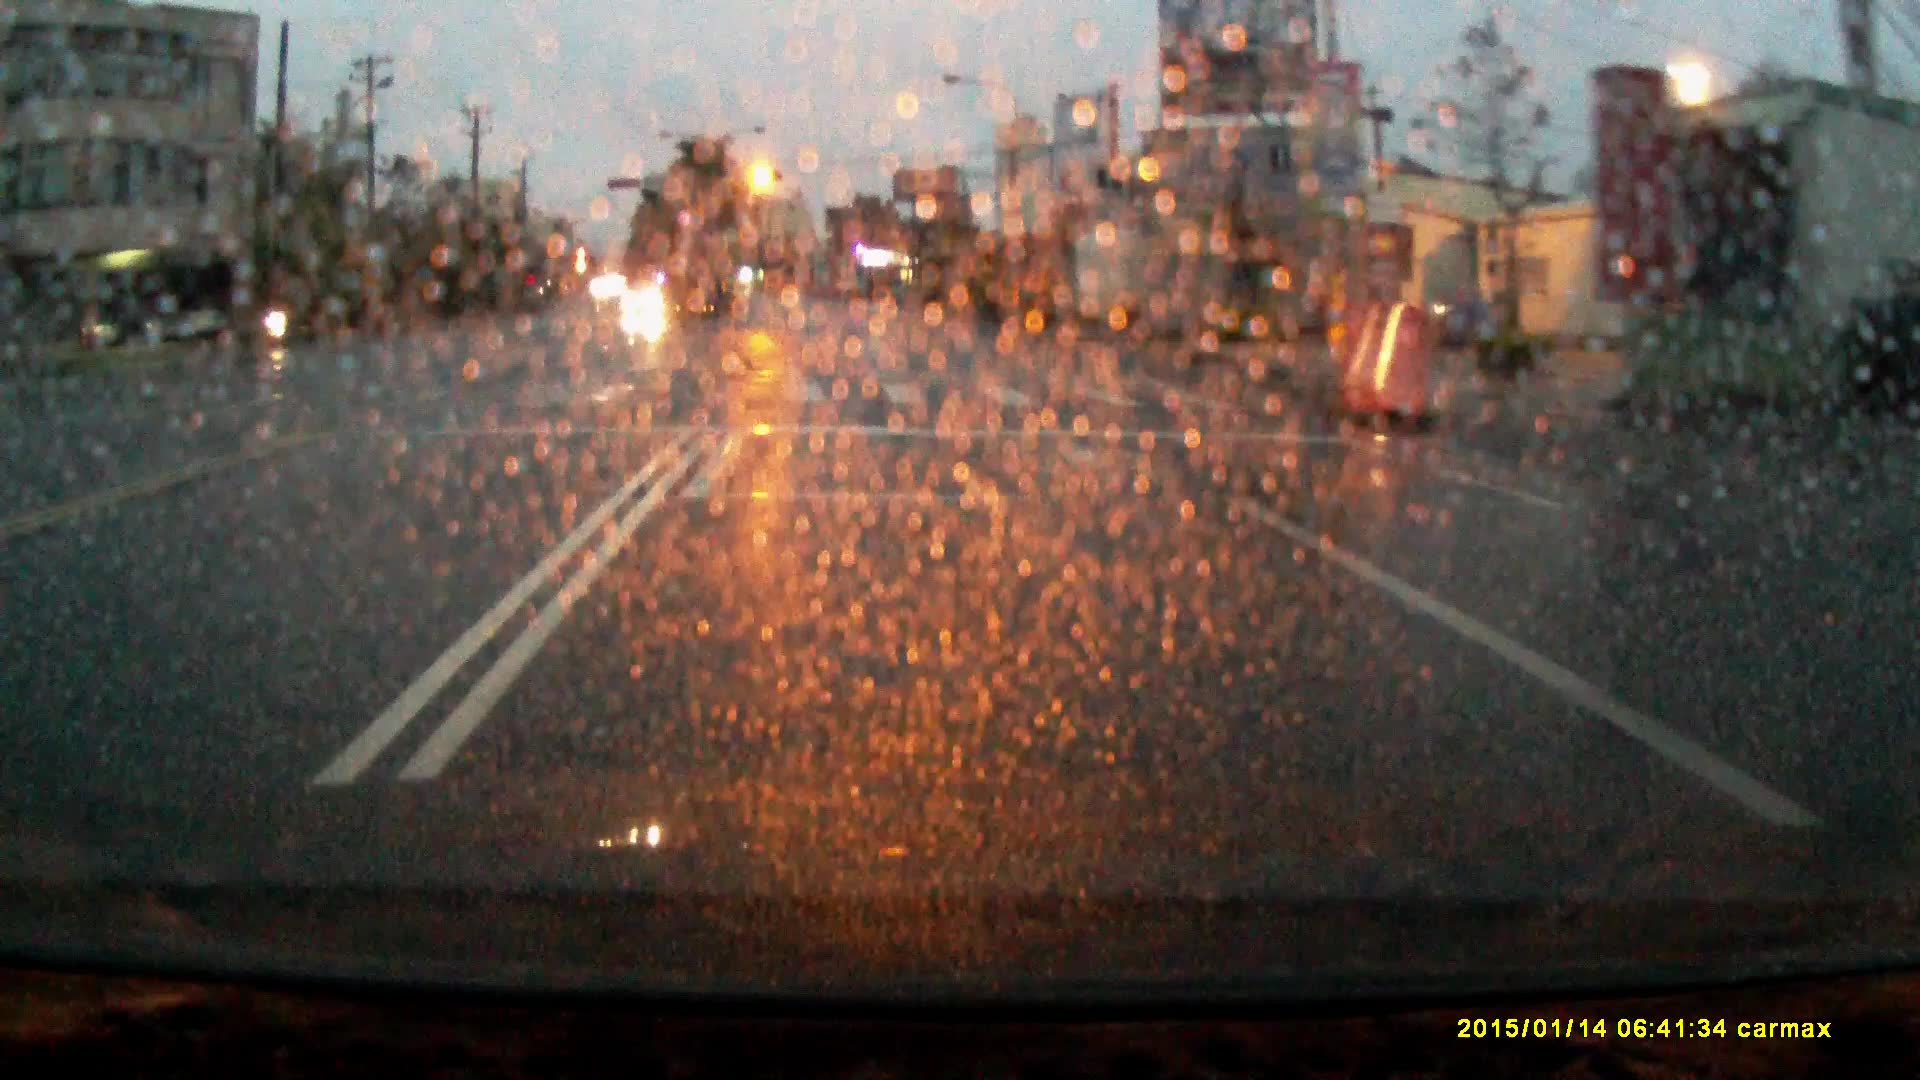rider: (1422, 274, 1492, 344), (260, 279, 297, 359)
vehicle: (622, 285, 667, 315)
